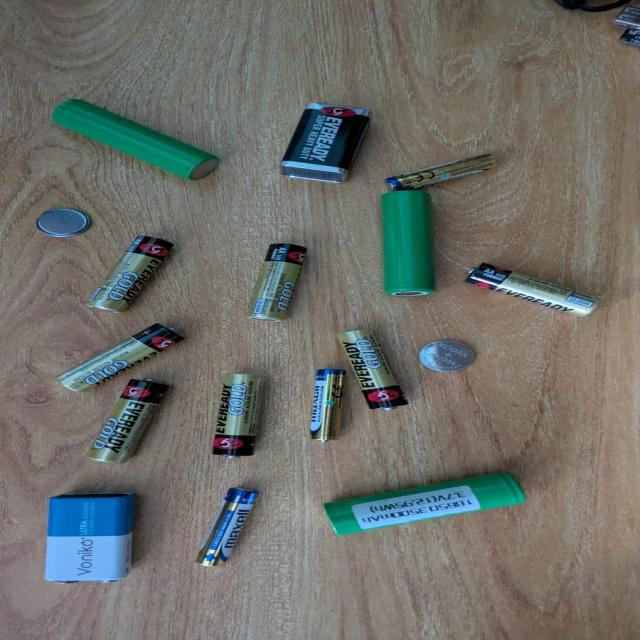9V: (43, 493, 133, 584), (279, 103, 375, 184)
AA: (55, 325, 183, 393), (82, 378, 170, 464), (462, 262, 602, 315), (82, 236, 176, 312), (334, 330, 408, 409), (243, 243, 307, 320), (211, 373, 264, 458)
AAA: (192, 487, 260, 567), (382, 154, 500, 192), (309, 369, 346, 442)
COIN: (417, 341, 475, 372), (36, 208, 91, 238)
